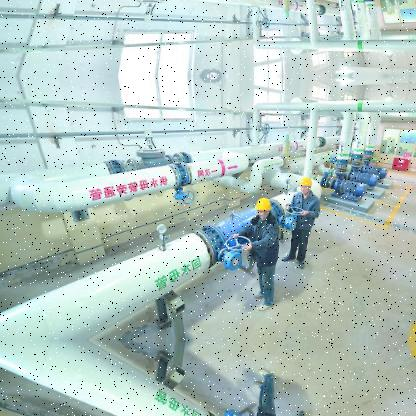helmet: (257, 194, 274, 221), (300, 174, 314, 195)
